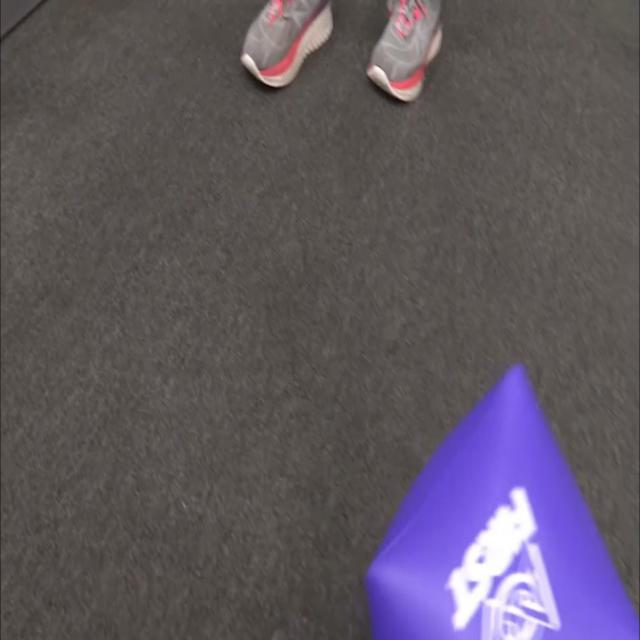frc_cube: (355, 357, 640, 640)
